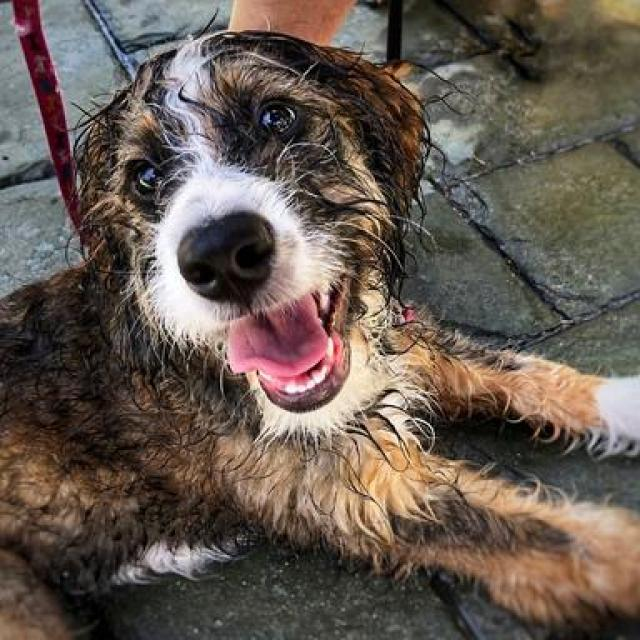happy: (17, 4, 596, 640)
